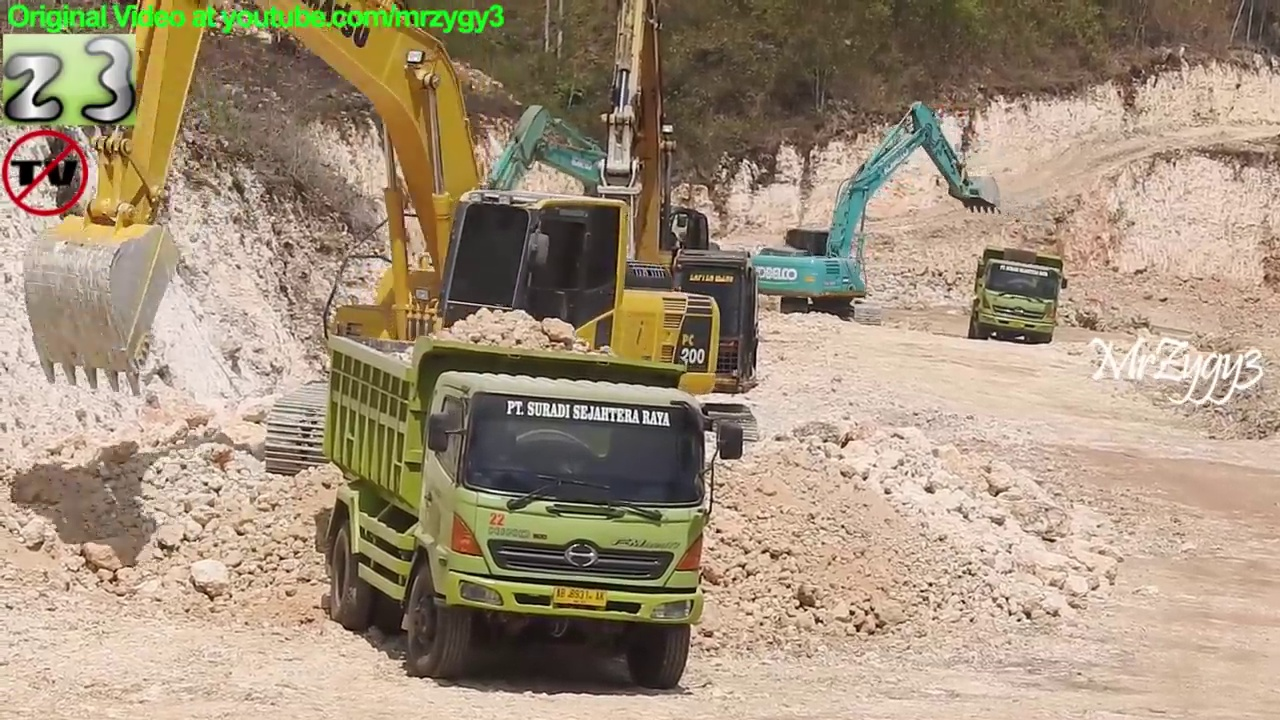excavator: (22, 2, 720, 506), (399, 5, 774, 476), (748, 98, 1005, 320)
truck: (317, 327, 753, 695), (964, 244, 1071, 351)
